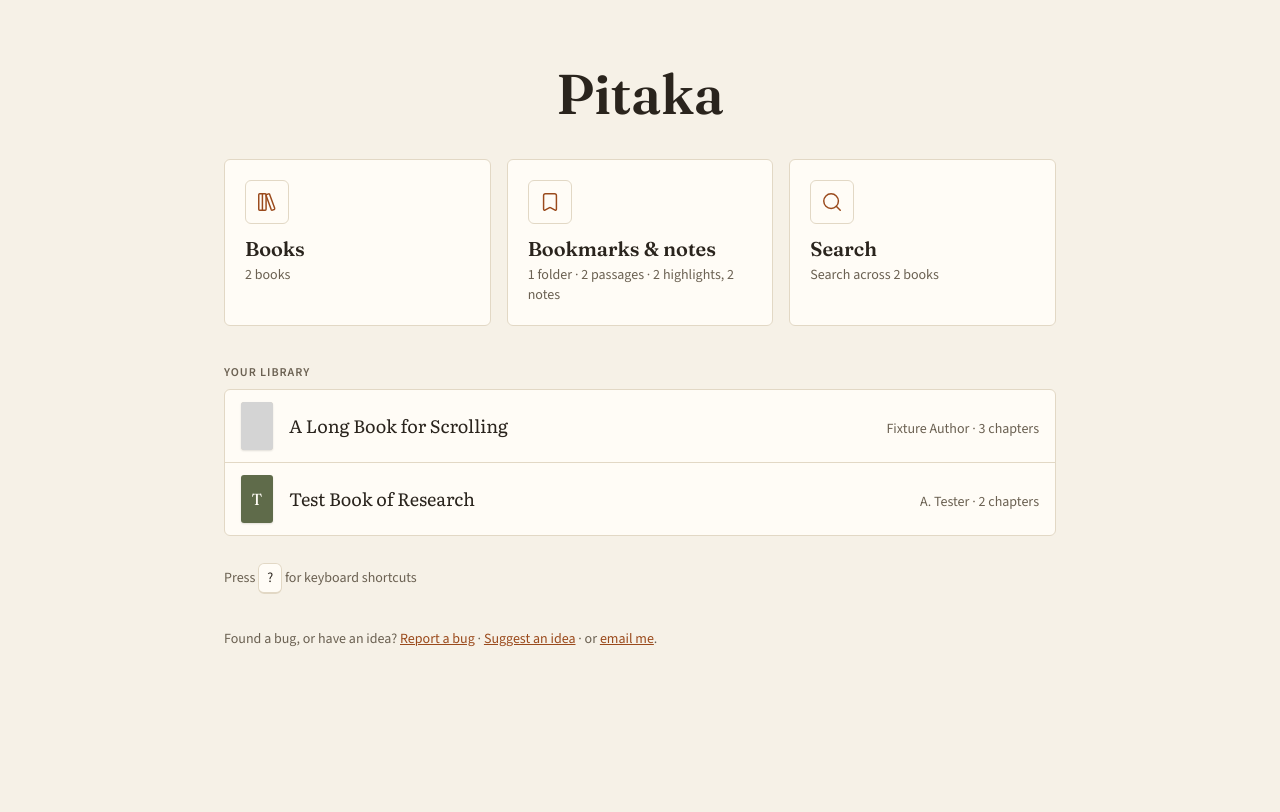
Test: home › opens Books from its card and returns home from the header
Click the button "Books 2 books" at x=267, y=202, box [224,159,491,326]
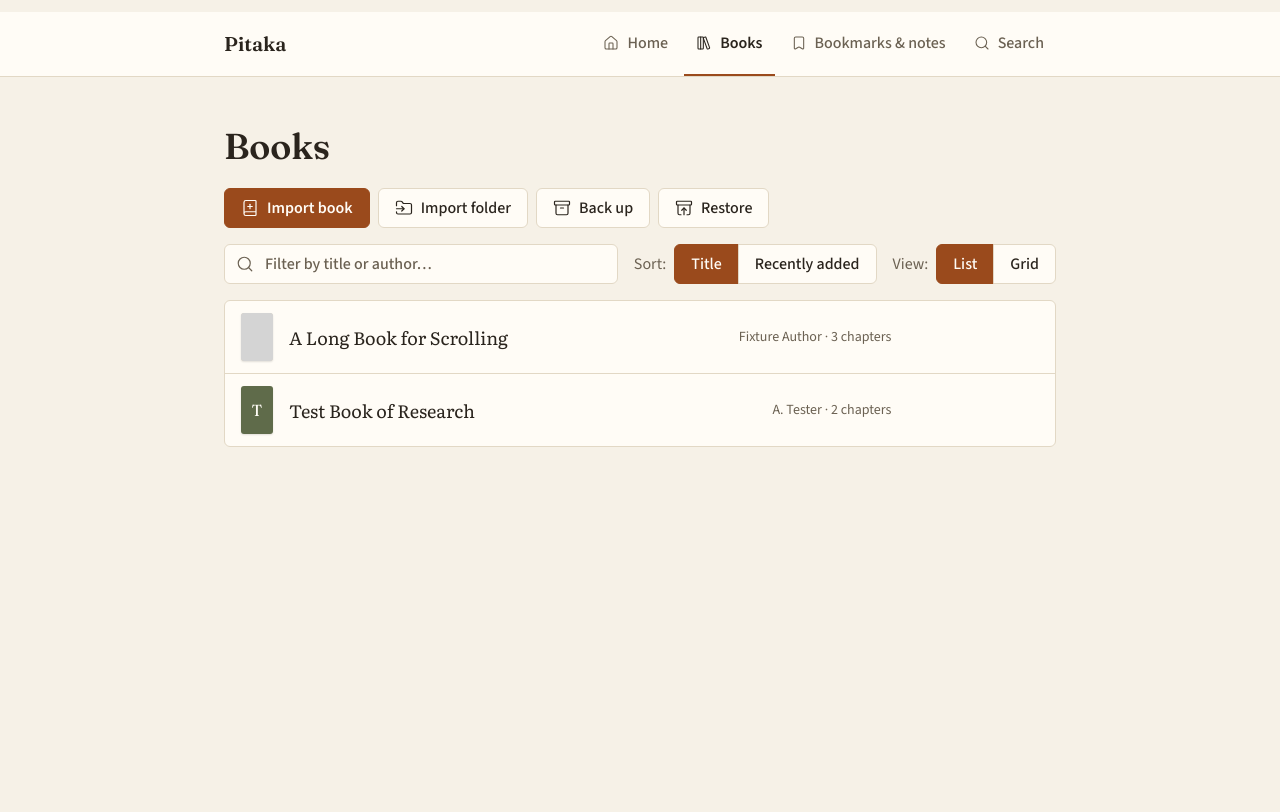
Result: the heading "Books" is shown at [224,124,330,168]
Click the button "Home" at x=636, y=44, box [592,12,680,76]
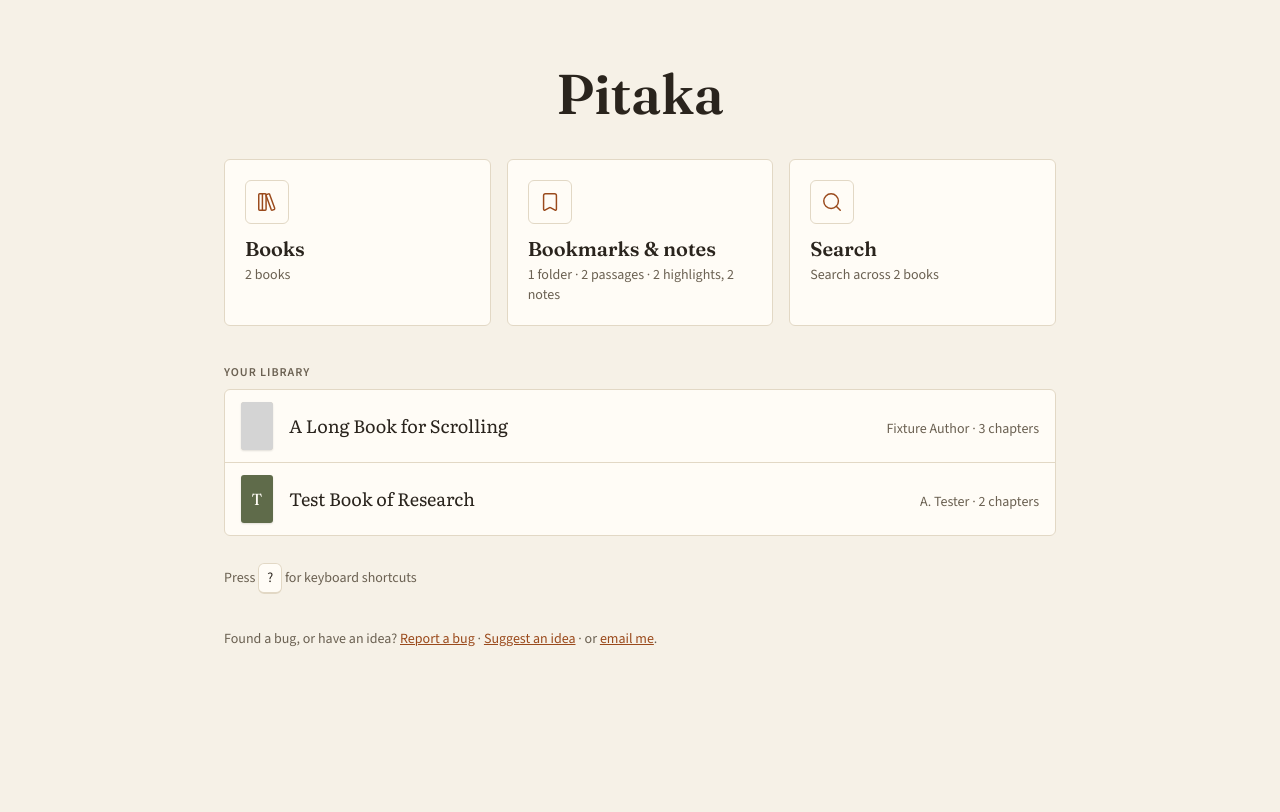
Result: the heading "Pitaka" is shown at [556,59,724,128]
Result: the navigation bar "Sections" is gone
